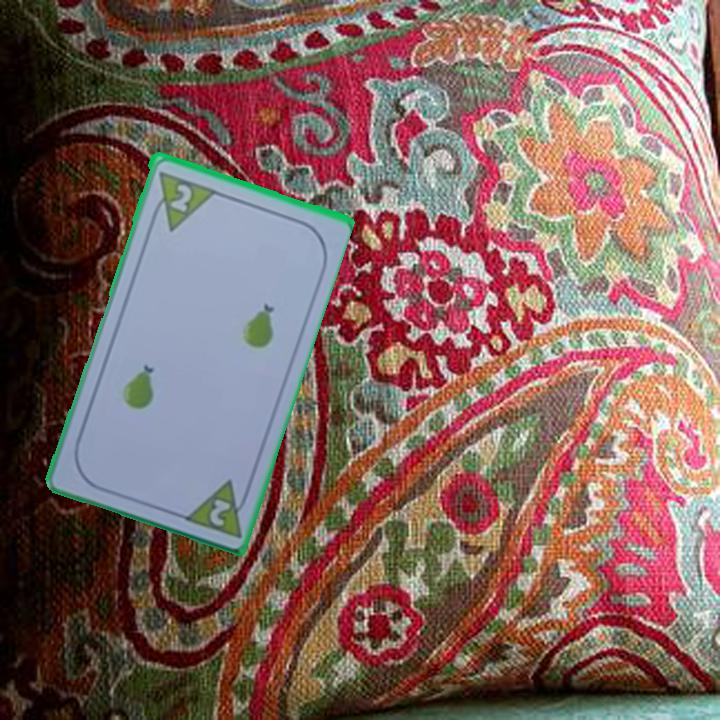2p: (178, 474, 254, 540), (146, 166, 217, 233)
